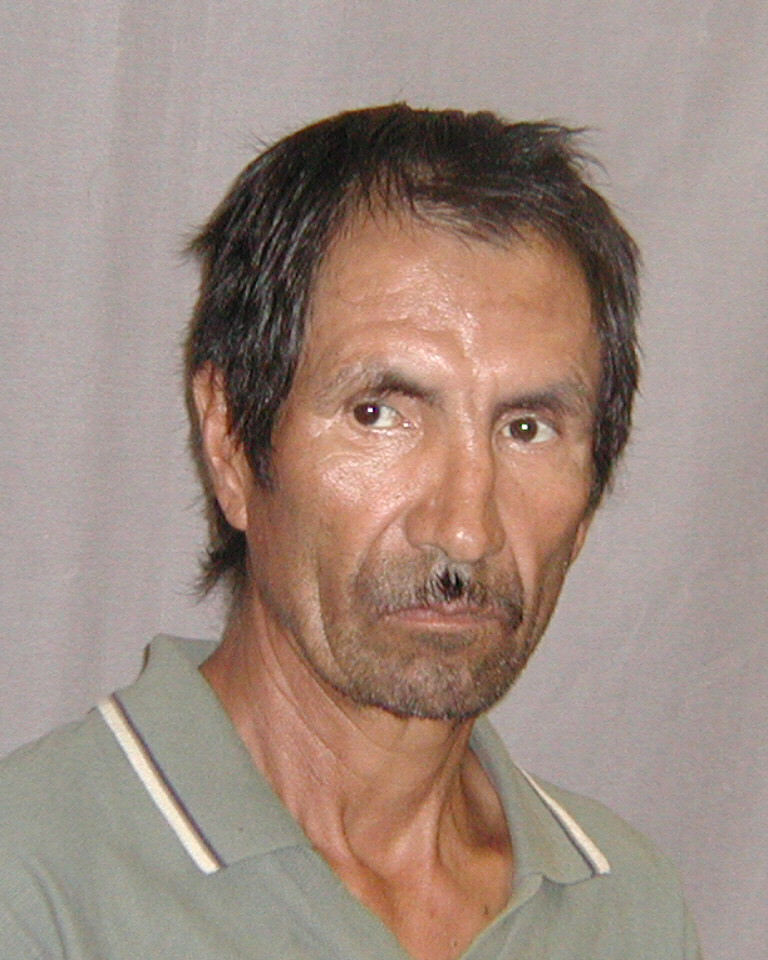face: (185, 115, 632, 720)
